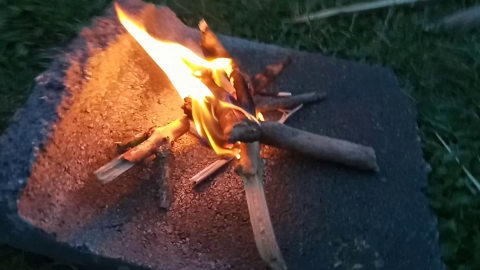fire: (107, 1, 251, 149)
